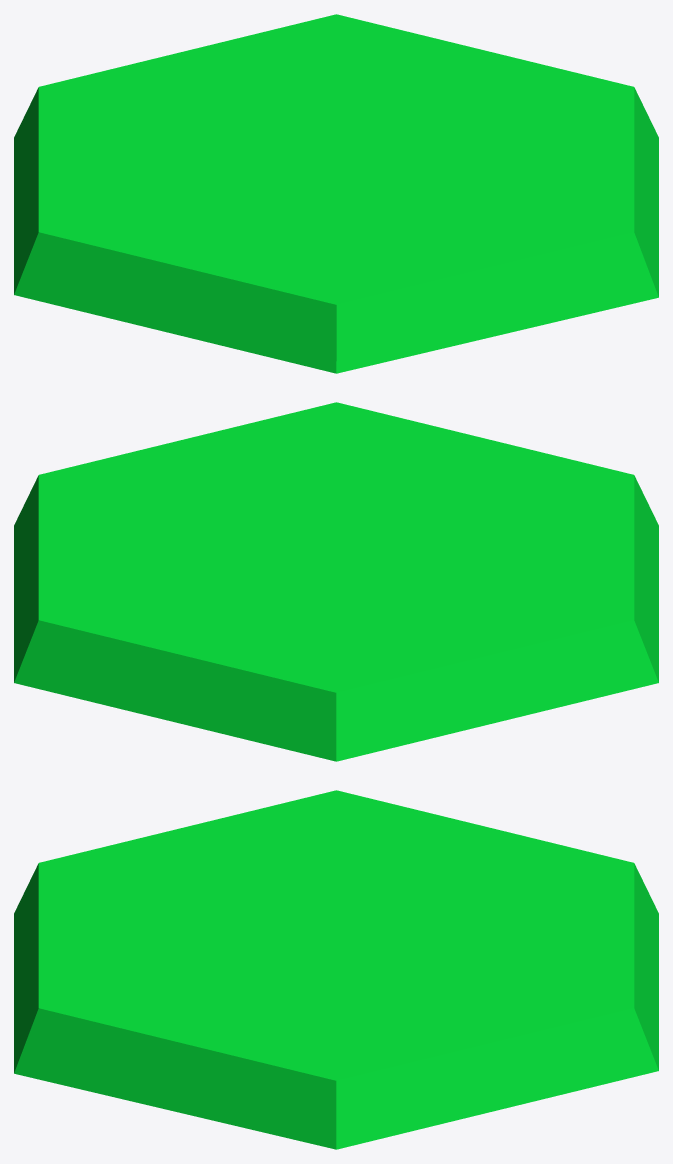
Rendered from Screw_Base_B.fbx.
The picture shows the model from 3 angles, top to bottom: view 1: azimuth 30°, elevation 25°; view 2: azimuth 150°, elevation 25°; view 3: azimuth 270°, elevation 25°; orthographic projection.
Parts seen in each view (by area): view 1: Screw_Base_B; view 2: Screw_Base_B; view 3: Screw_Base_B.
Part boxes in pixels (<box>): Screw_Base_B: <box>14,14,658,373</box>; Screw_Base_B: <box>14,402,658,761</box>; Screw_Base_B: <box>14,790,658,1149</box>.
Size of the model in its own units: 0.8204 by 0.0723 by 0.7105.
